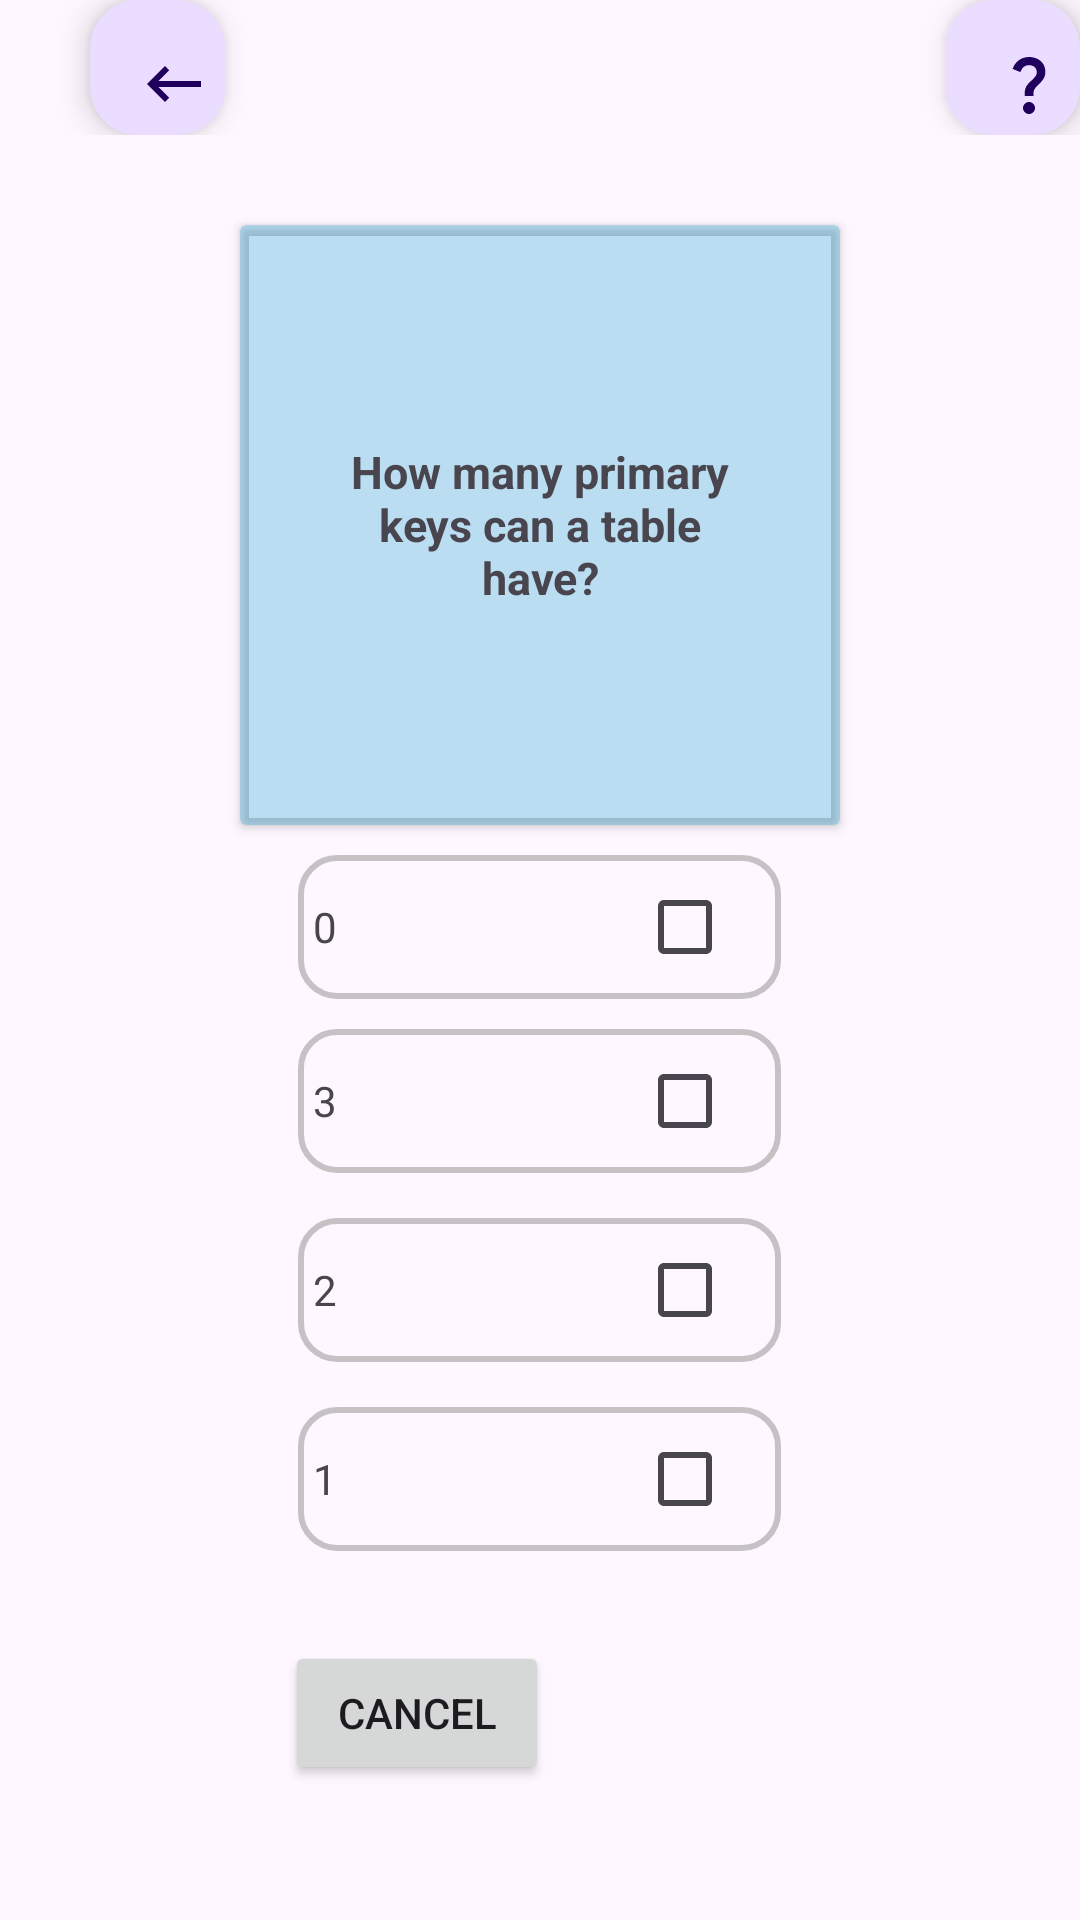

Named icons in this screenshot (1080 x 1920) and their centers, point (x, y):
keyboard backspace: point (157, 67)
question mark: point (1012, 67)
